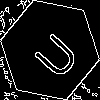U: (25, 25, 82, 82)
